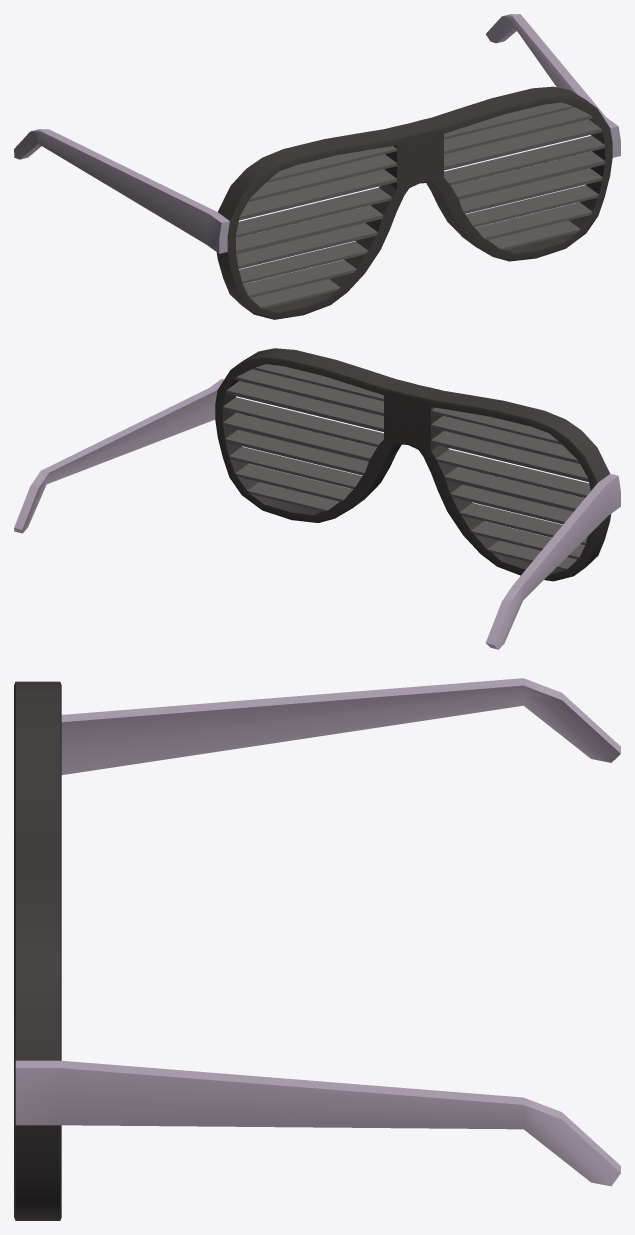
Rendered from Glasses_09_02.fbx.
3 renders of one model, top to bottom at view 1: azimuth 30°, elevation 25°; view 2: azimuth 150°, elevation 25°; view 3: azimuth 270°, elevation 25°, orthographic. The views are drawn at different scales.
Parts seen in each view (by area): view 1: Glasses_09_02; view 2: Glasses_09_02; view 3: Glasses_09_02.
Boxes of the visible parts, <box> form: Glasses_09_02: <box>14,14,620,319</box>; Glasses_09_02: <box>14,348,620,649</box>; Glasses_09_02: <box>14,678,620,1220</box>.
Size of the model in its own units: 39.35 by 12.35 by 23.42.
